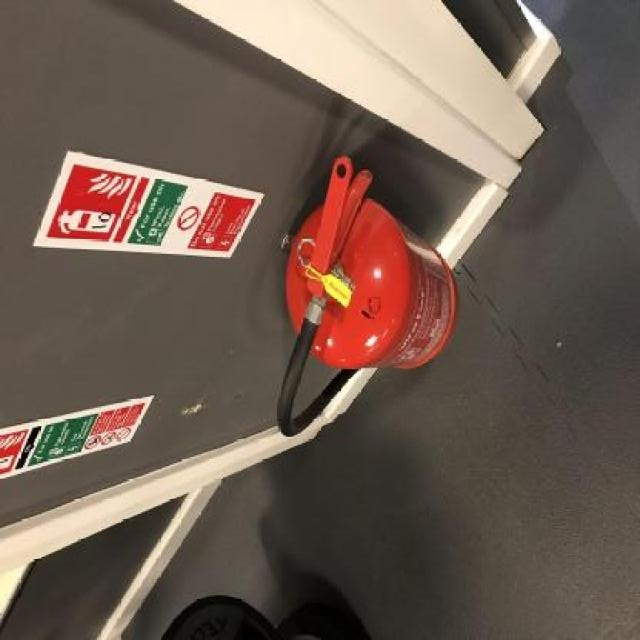fire extinguisher: (276, 156, 461, 436)
